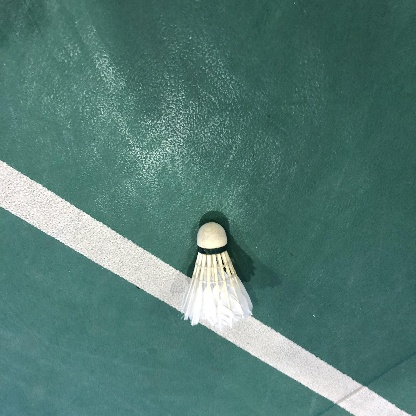ball_single: (181, 222, 253, 330)
